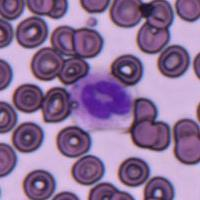N: (68, 70, 134, 130)
